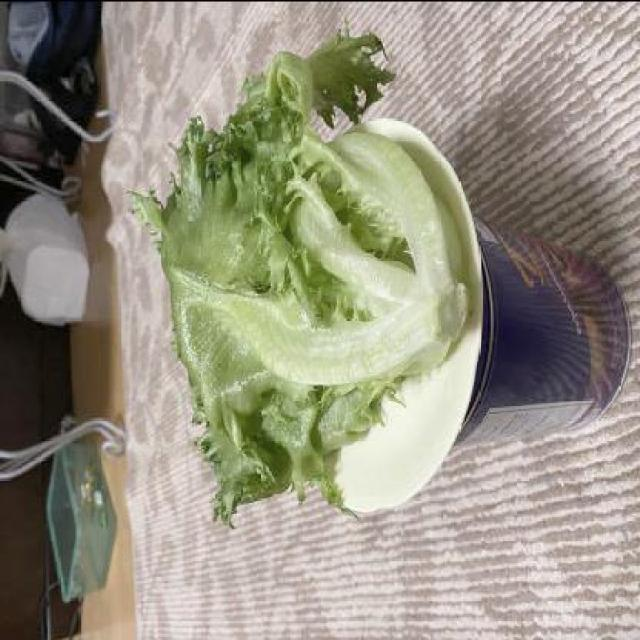Lettuce: (138, 32, 465, 522)
